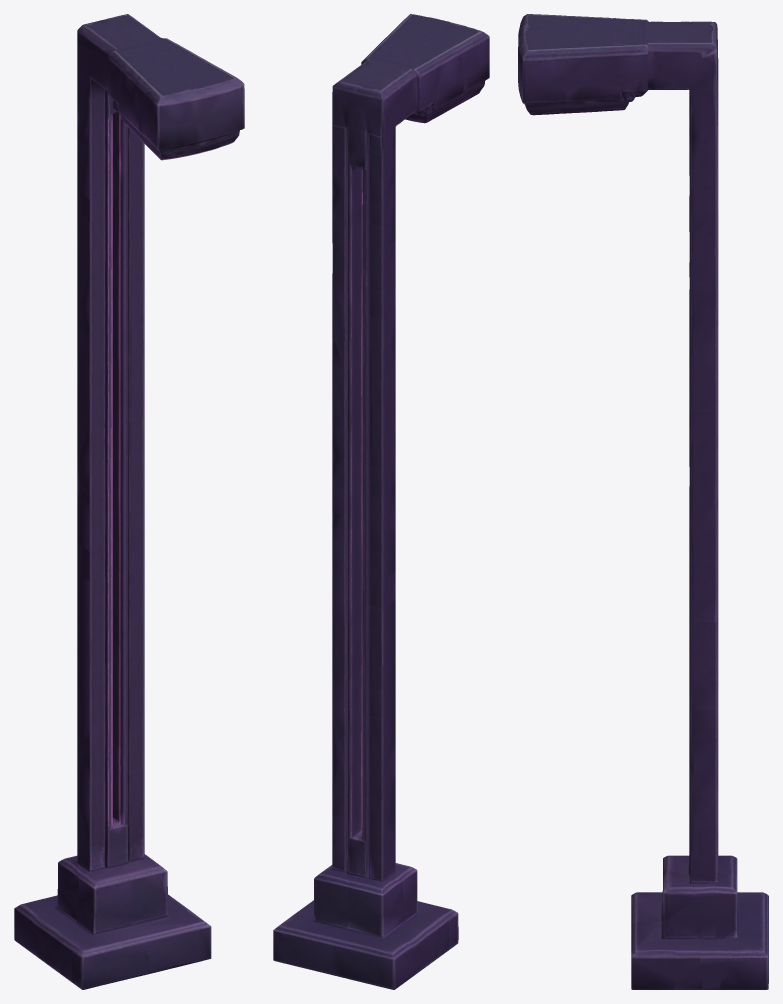
Rendered from neon-lamppost.glb.
3 views of the same model, side by side, from view 1: azimuth 30°, elevation 25°; view 2: azimuth 150°, elevation 25°; view 3: azimuth 270°, elevation 25° (orthographic). The views are drawn at different scales.
Visible parts, largest first — view 1: mesh_node; view 2: mesh_node; view 3: mesh_node.
Part boxes in pixels (x1,y1,x2,y2): mesh_node: [14, 14, 244, 989]; mesh_node: [273, 14, 489, 989]; mesh_node: [518, 14, 768, 989].
Bounding box in the file's own units: 0.2793 × 1.9 × 0.4671.
1 material, 1 textured.
